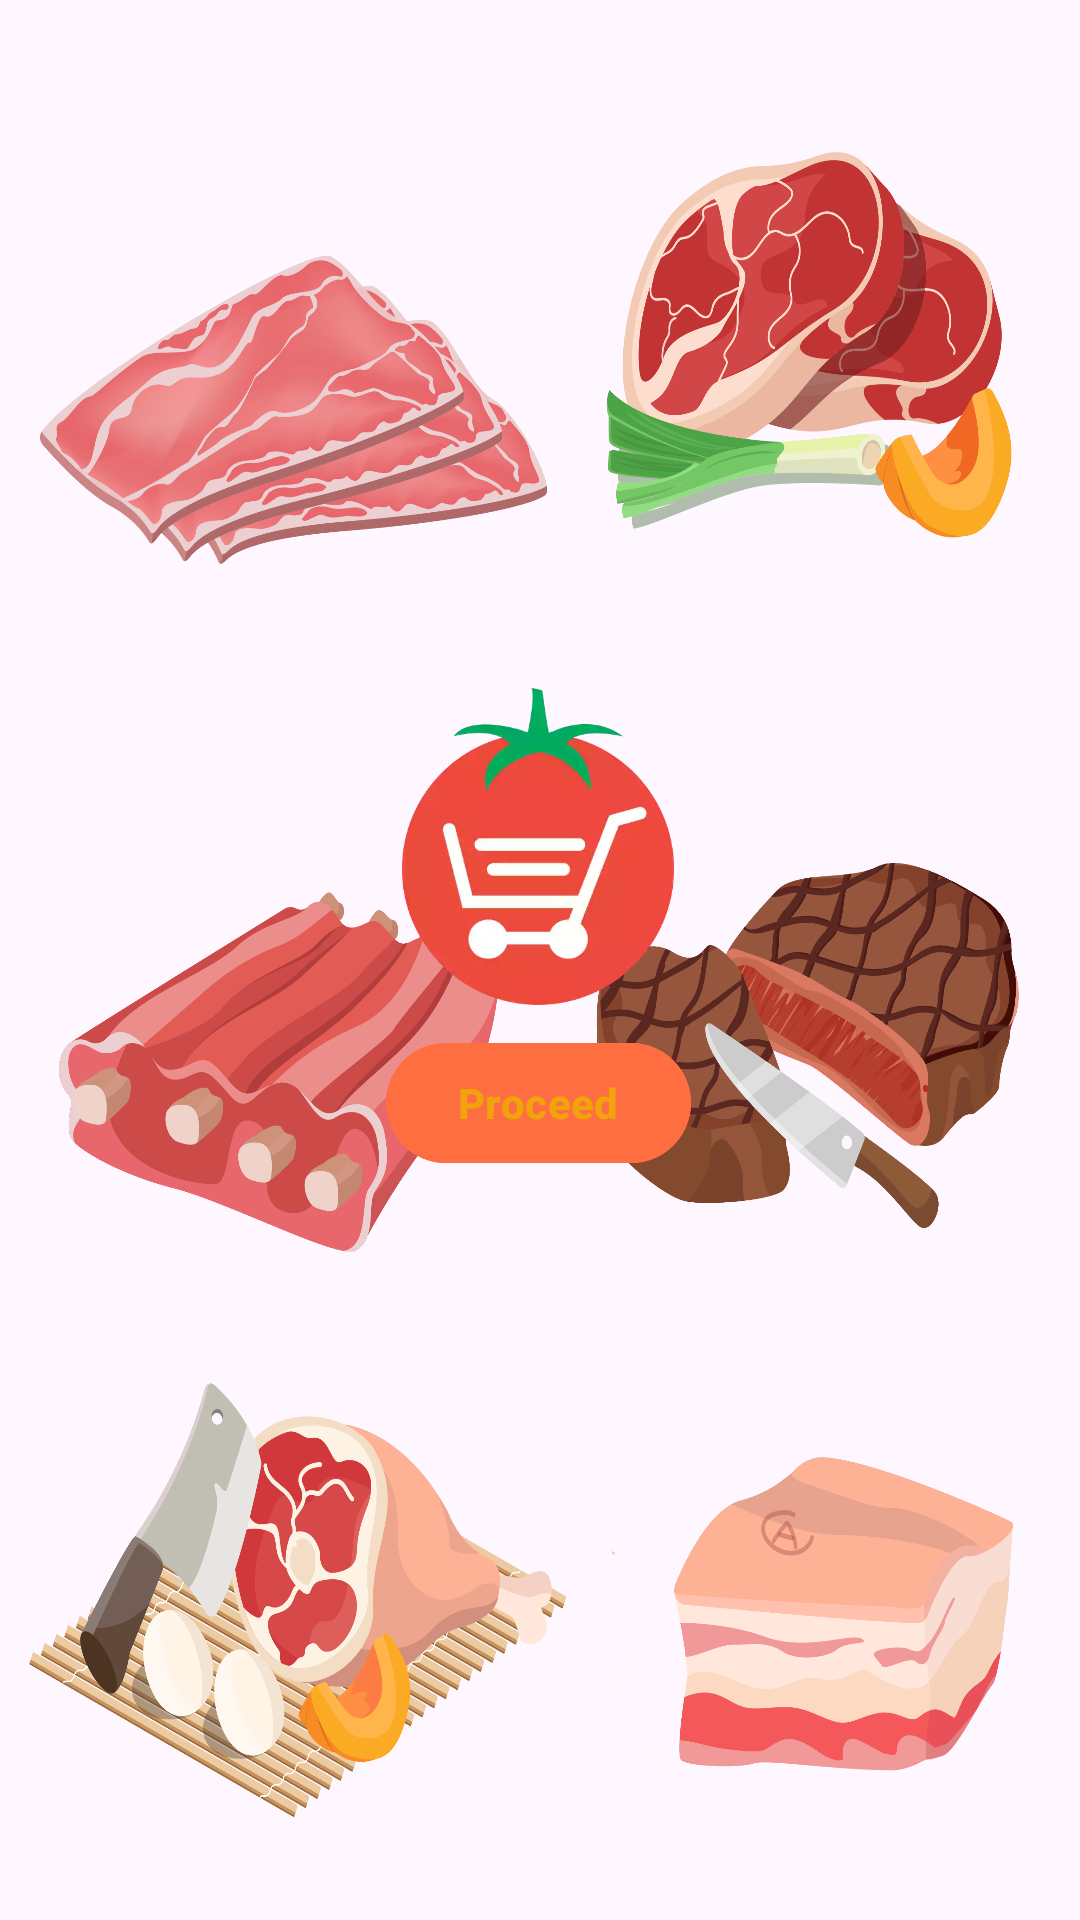

Icons on this 1080*1920 Android screen, each with its box as (left=x1, top=y1, right=x2, bottom=y2):
grocery: (left=379, top=688, right=697, bottom=1031)
